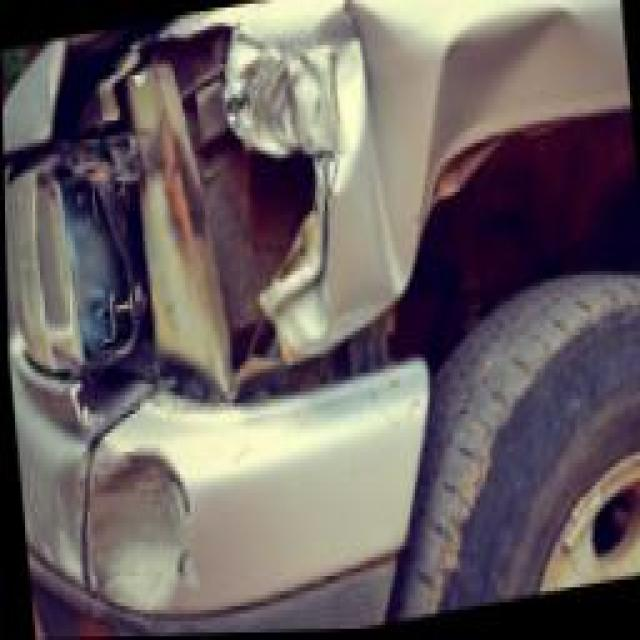Bumper: (7, 345, 426, 639)
Fender: (294, 0, 631, 354)
Light: (50, 29, 388, 407)
